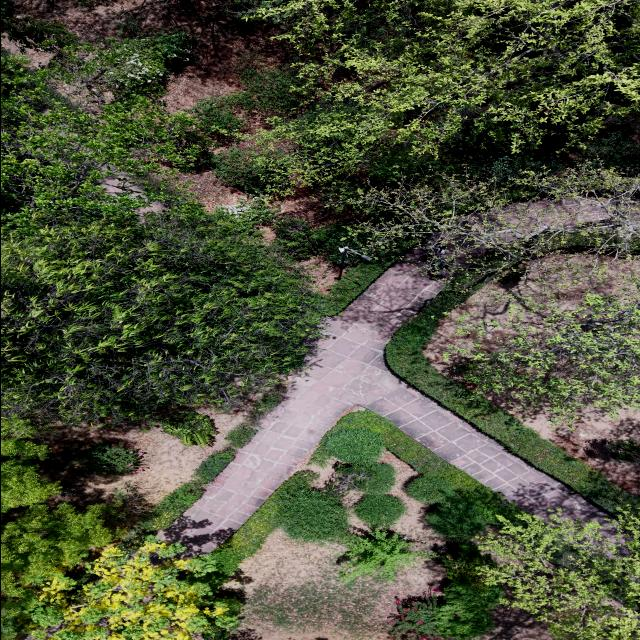DRY_AREA: (161, 261, 604, 551), (16, 0, 292, 112), (16, 0, 290, 112), (16, 0, 291, 111), (424, 254, 639, 378), (224, 528, 446, 639), (224, 529, 447, 639), (226, 529, 445, 639), (230, 534, 445, 639), (39, 410, 245, 509), (378, 450, 444, 543), (160, 170, 248, 210), (481, 605, 553, 639)
PATHWAYS: (159, 262, 605, 552)
VEGETATION_TREE: (5, 2, 639, 277), (1, 412, 638, 639), (196, 0, 639, 283), (1, 59, 320, 443), (3, 60, 314, 443), (227, 2, 638, 285), (351, 156, 638, 509), (1, 58, 171, 639), (218, 0, 639, 192), (1, 195, 314, 443), (249, 0, 638, 180), (335, 412, 639, 639), (386, 285, 639, 512), (393, 473, 639, 639), (337, 157, 639, 285), (393, 508, 639, 639), (273, 411, 519, 540), (1, 55, 198, 213), (453, 272, 639, 423), (1, 438, 124, 639), (334, 411, 519, 538), (333, 411, 518, 535), (331, 411, 517, 527), (479, 510, 639, 639), (30, 541, 240, 639), (315, 411, 506, 509), (1, 502, 122, 639), (193, 60, 314, 194), (288, 422, 405, 540), (287, 425, 405, 539), (312, 410, 478, 489), (269, 216, 394, 316), (121, 449, 235, 550), (1, 502, 121, 596), (211, 470, 315, 574), (391, 543, 503, 639), (48, 30, 193, 100), (193, 58, 315, 132), (244, 580, 379, 639), (406, 473, 520, 538), (81, 31, 192, 91), (391, 582, 501, 639), (124, 479, 203, 546), (340, 527, 436, 581), (425, 486, 520, 538), (225, 59, 314, 114), (275, 476, 348, 540), (1, 438, 61, 511), (315, 260, 391, 316), (426, 583, 501, 639), (271, 217, 352, 265), (225, 384, 286, 447), (1, 0, 75, 51), (573, 113, 639, 170), (1, 1, 75, 51), (1, 459, 61, 511), (442, 542, 494, 587), (191, 96, 244, 136), (329, 461, 395, 493), (324, 427, 383, 462), (159, 411, 216, 445), (390, 598, 437, 639), (354, 494, 405, 527), (82, 444, 142, 472), (247, 383, 286, 425), (344, 462, 395, 493), (193, 448, 235, 484), (406, 473, 455, 503), (1, 437, 48, 460), (604, 439, 639, 461), (225, 426, 256, 447)
